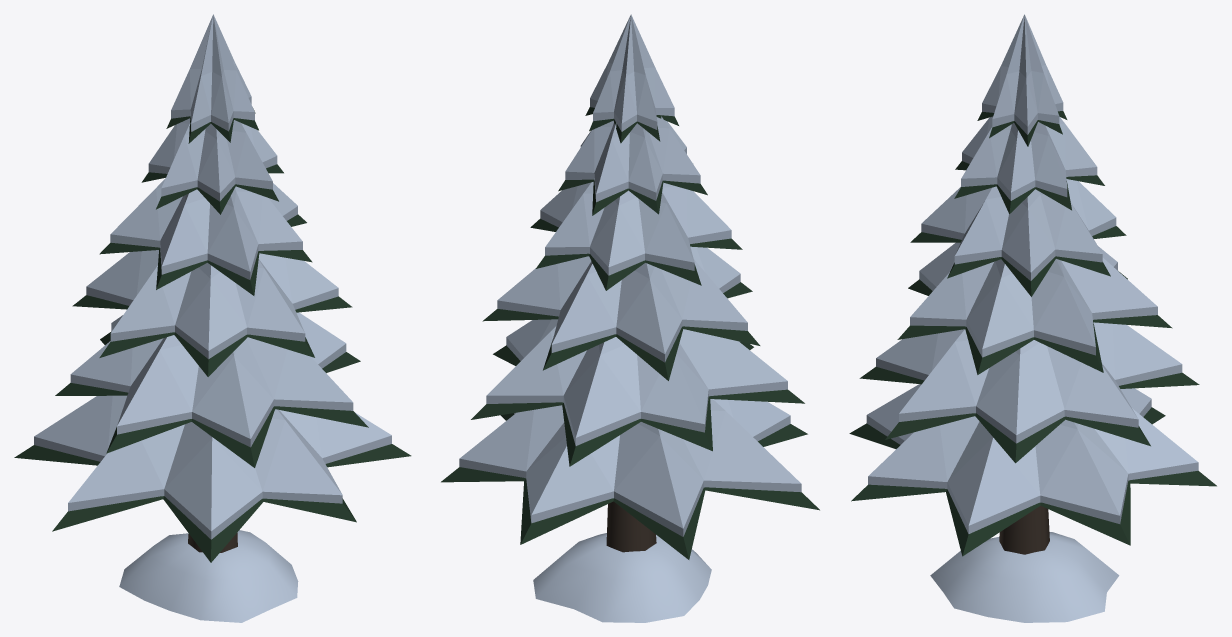
The model's file is pine_b.glb.
3 views of the same model, side by side, from view 1: azimuth 30°, elevation 25°; view 2: azimuth 150°, elevation 25°; view 3: azimuth 270°, elevation 25° (orthographic).
Visible parts, largest first — view 1: Tree; view 2: Tree; view 3: Tree.
Boxes of the visible parts, x1,y1,x2,y2 form: Tree: (14,14,411,622); Tree: (441,14,819,622); Tree: (849,14,1216,622).
Size of the model in its own units: 3.63 by 5.76 by 3.37.
